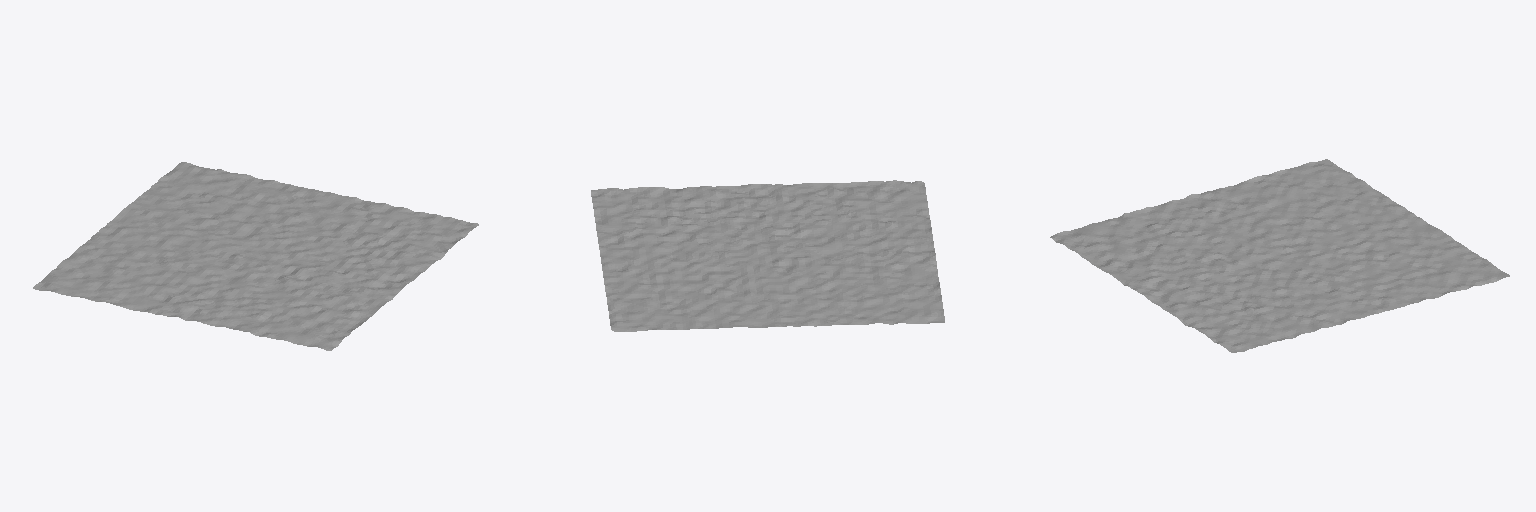
File: agua.obj
3 views of the same model, side by side, from view 1: azimuth 30°, elevation 25°; view 2: azimuth 150°, elevation 25°; view 3: azimuth 270°, elevation 25° (orthographic).
Visible parts, largest first — view 1: Agua_Plane.007; view 2: Agua_Plane.007; view 3: Agua_Plane.007.
Boxes of the visible parts, x1=… form: Agua_Plane.007: x1=33, y1=162, x2=478, y2=350; Agua_Plane.007: x1=591, y1=180, x2=944, y2=331; Agua_Plane.007: x1=1050, y1=159, x2=1509, y2=352.
Size of the model in its own units: 99.84 by 0.8728 by 99.84.